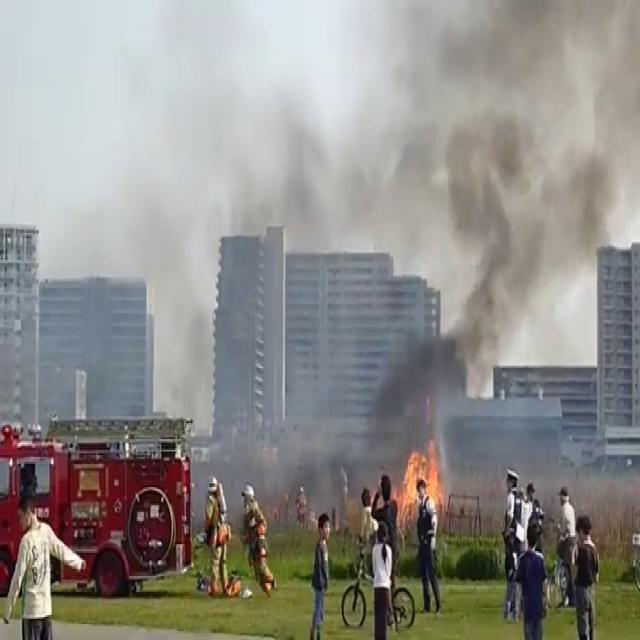Fire: (392, 438, 444, 522)
Smoke: (261, 4, 633, 402)
